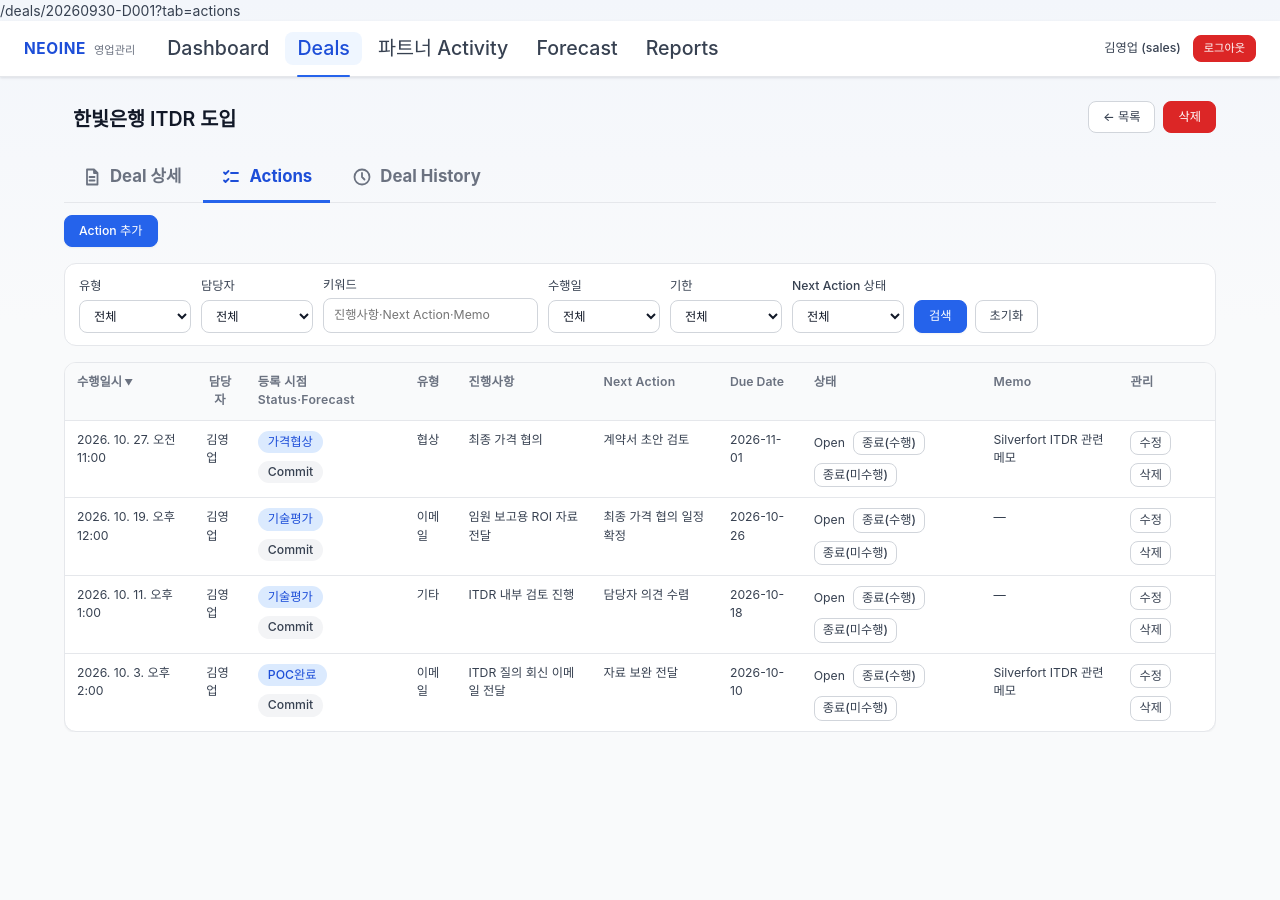
등록·수정 실패 (AC-10) › keeps the dialog and the input with the server error inside when registering fails
The image size is (1280, 900).
Expected: the heading "한빛은행 ITDR 도입" is shown, [64, 101, 245, 138]
Click the button "Action 추가" at coordinates (111, 231), box [64, 215, 158, 247]
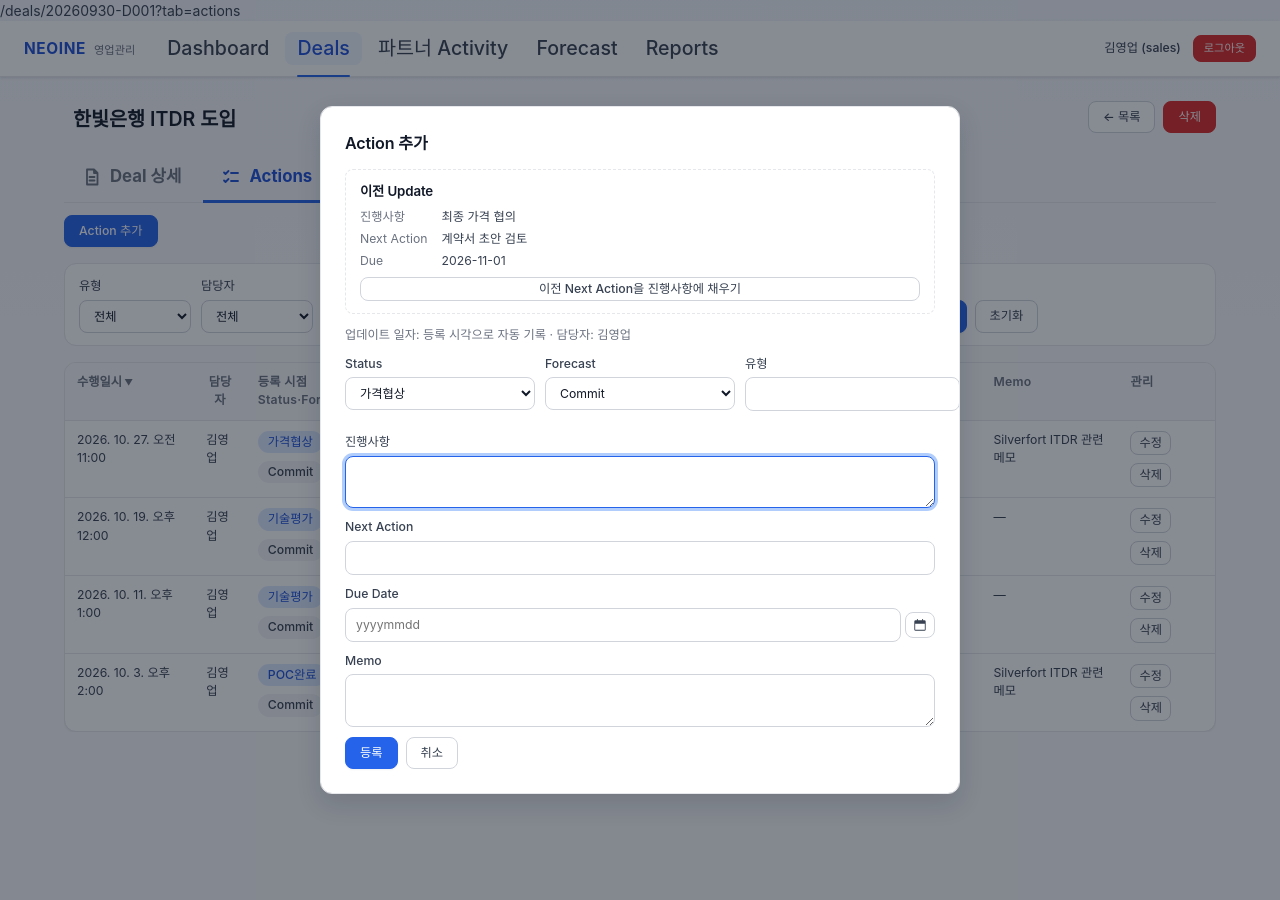
Type "미팅" into the dropdown labelled "유형" at coordinates (852, 394), box [745, 377, 960, 411]
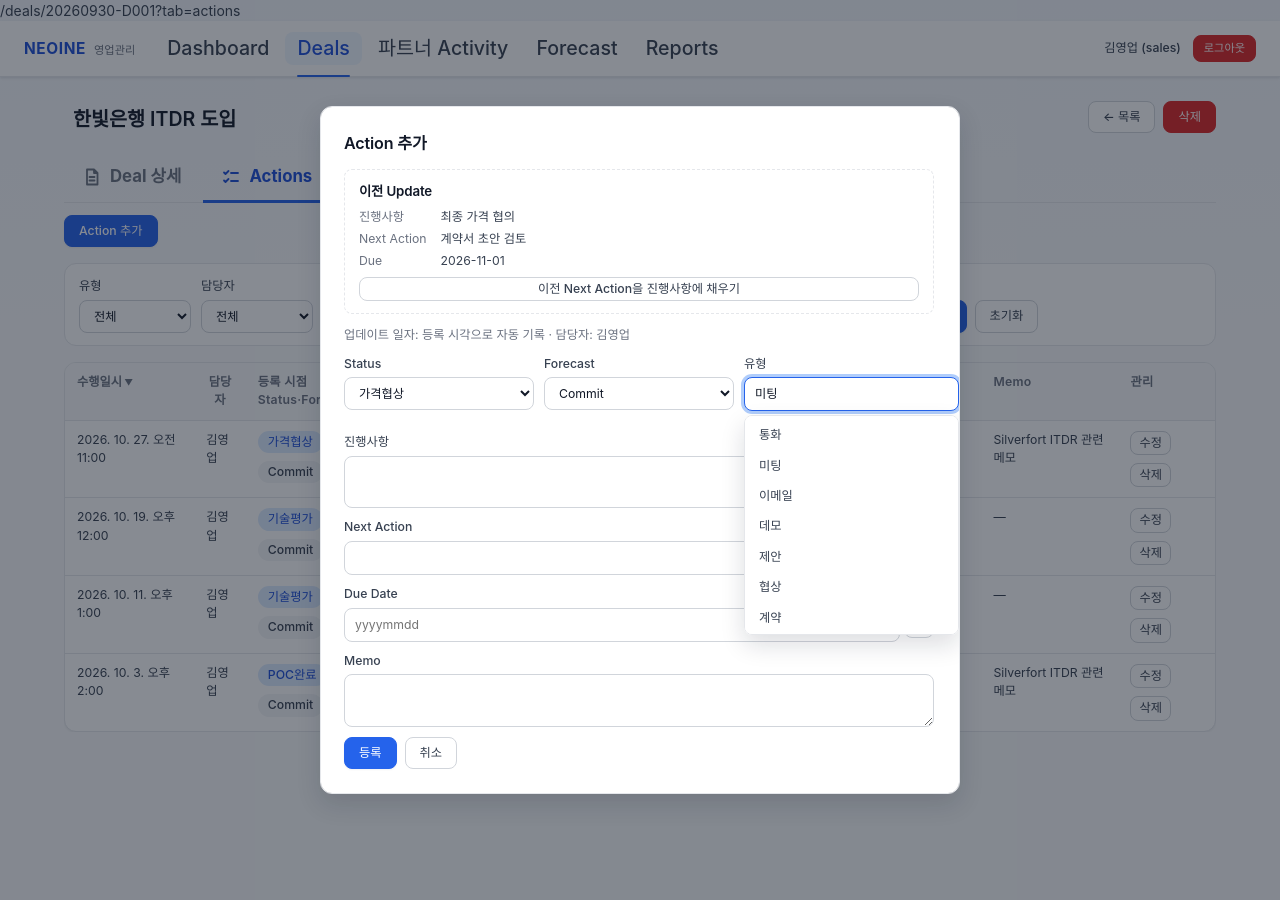
Type "실패해도 남아야 하는 입력" into the text box labelled "진행사항" at coordinates (639, 482), box [344, 456, 934, 508]
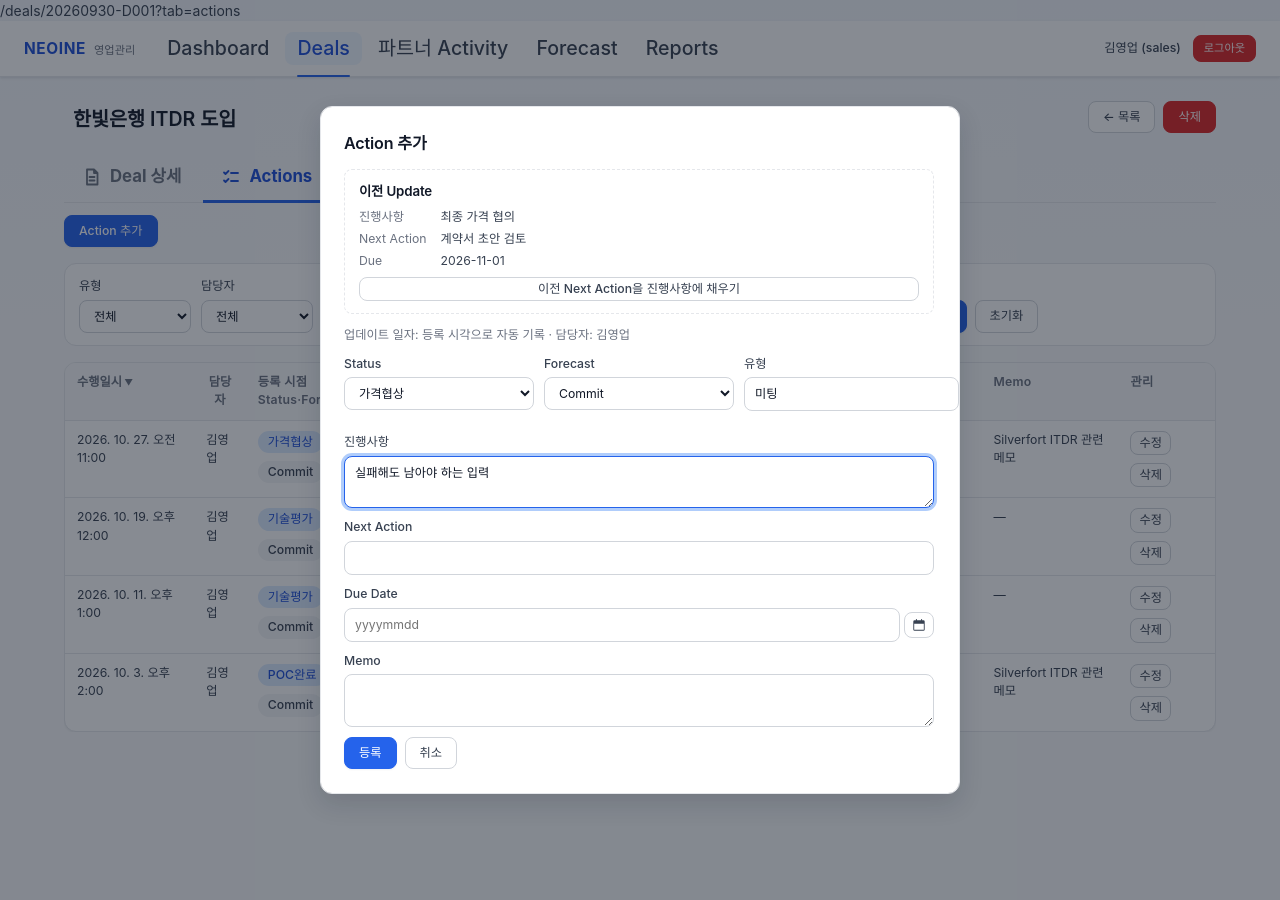
Click the button "등록" at coordinates (370, 753), box [344, 737, 396, 769]
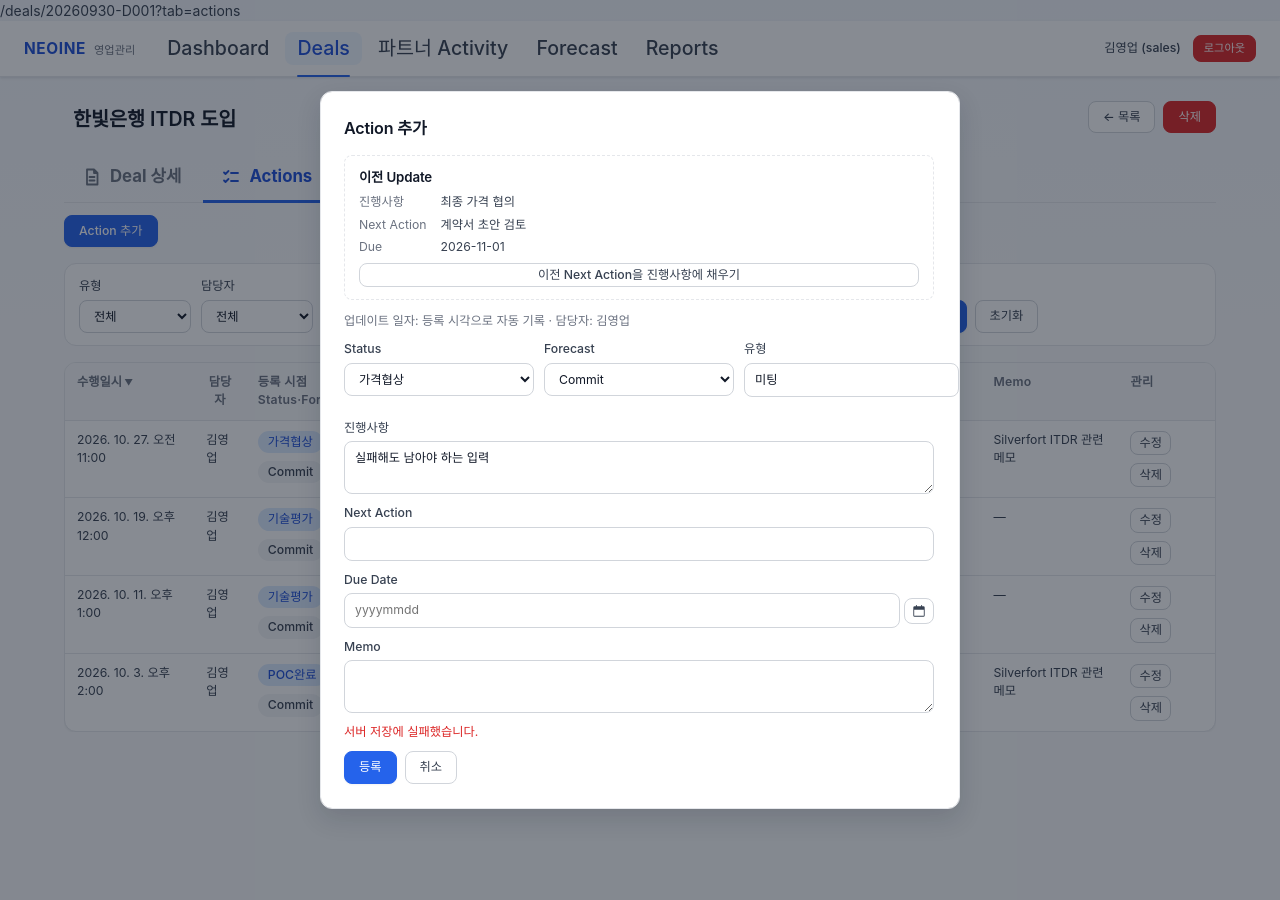
Expected: the dialog "Action 추가" is shown, [320, 91, 960, 809]
Expected: the message reads "서버 저장에 실패했습니다.", [344, 724, 478, 739]
